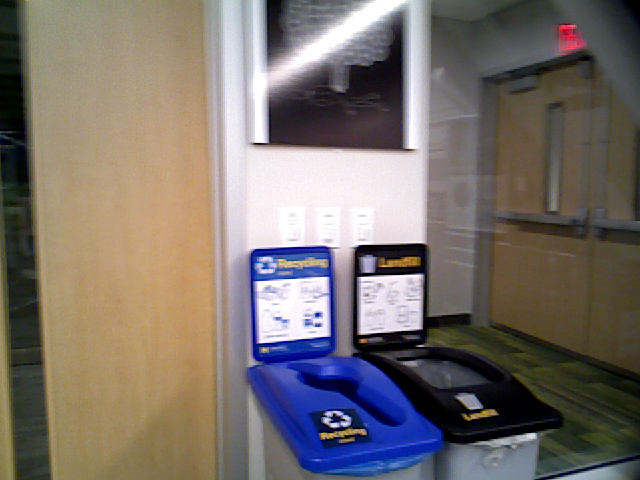painting1: (247, 1, 420, 147)
